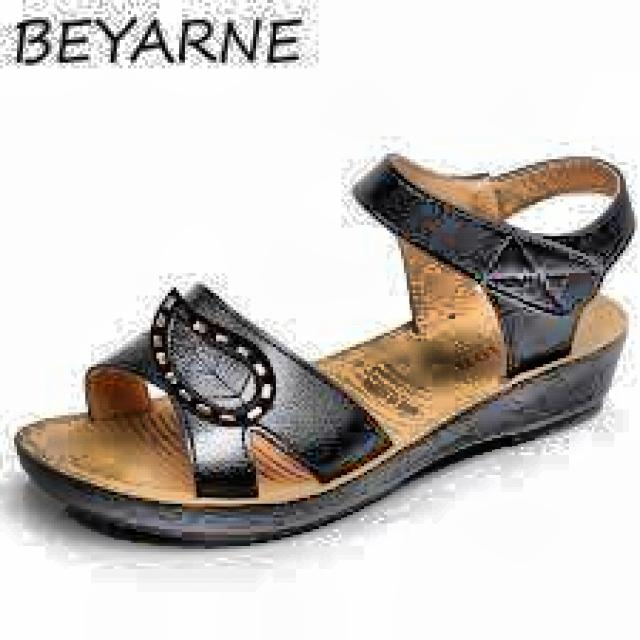shoes: (12, 143, 640, 557)
